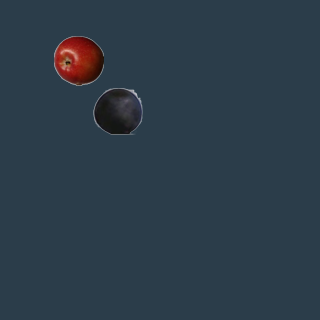Apple Braeburn: (53, 35, 103, 85)
Grape Blue: (92, 85, 142, 135)
